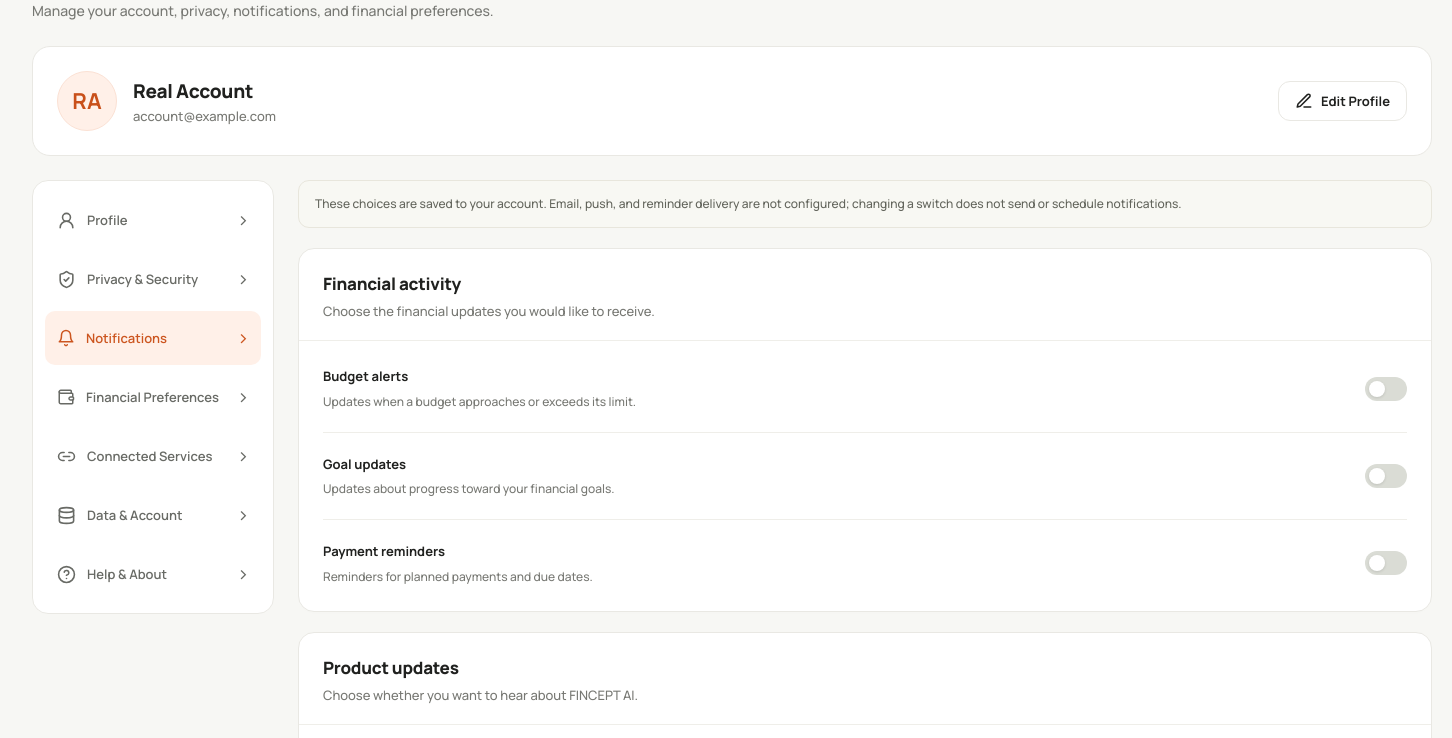
persists notification preferences only on successful save, retaining edits on failure
Click the switch named "Budget alerts" in the row of "Budget alerts" at [1386, 389], box [1365, 377, 1407, 401]
(page scrolled)
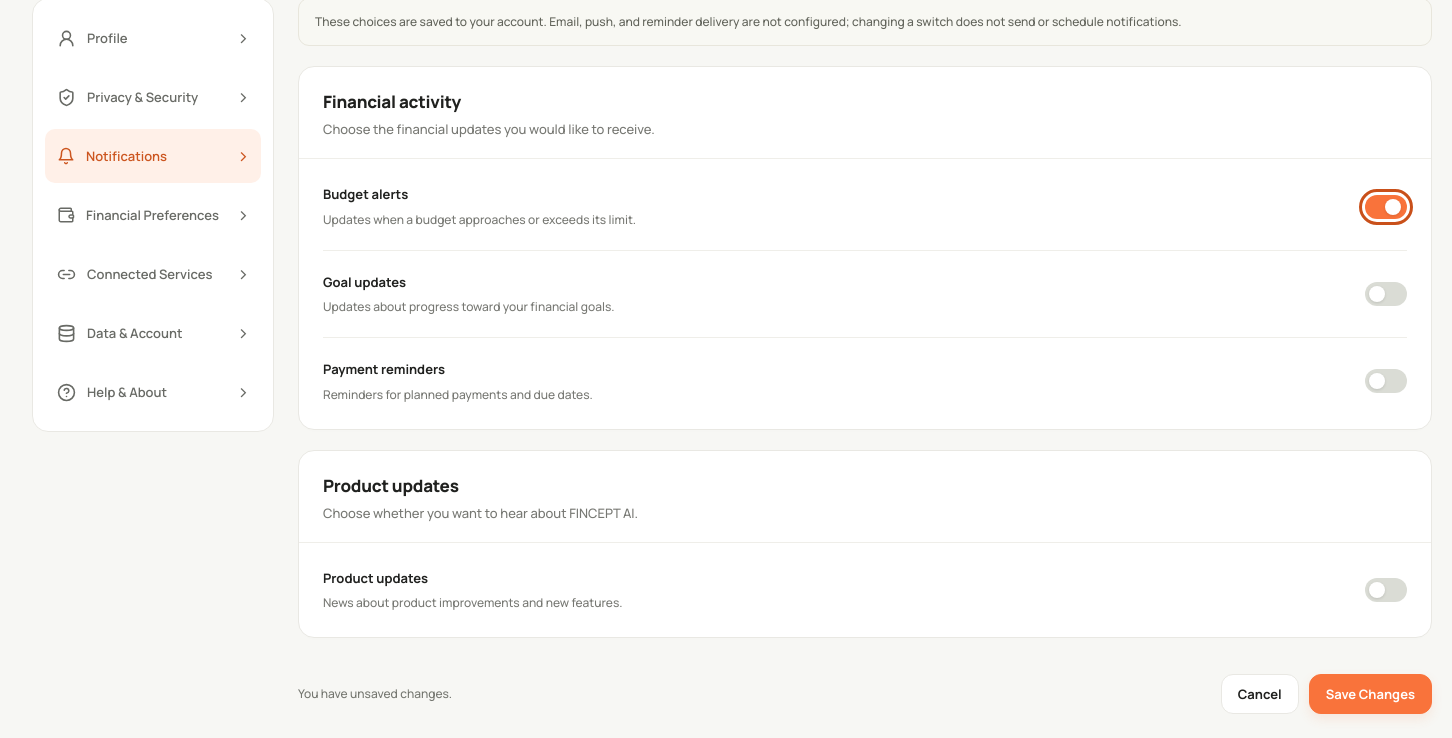
Expected: the switch named "Budget alerts" in the row of "Budget alerts" is checked, [1365, 195, 1407, 219]
Click the button "Save Changes" at [1370, 694], box [1309, 674, 1432, 714]
(page scrolled)
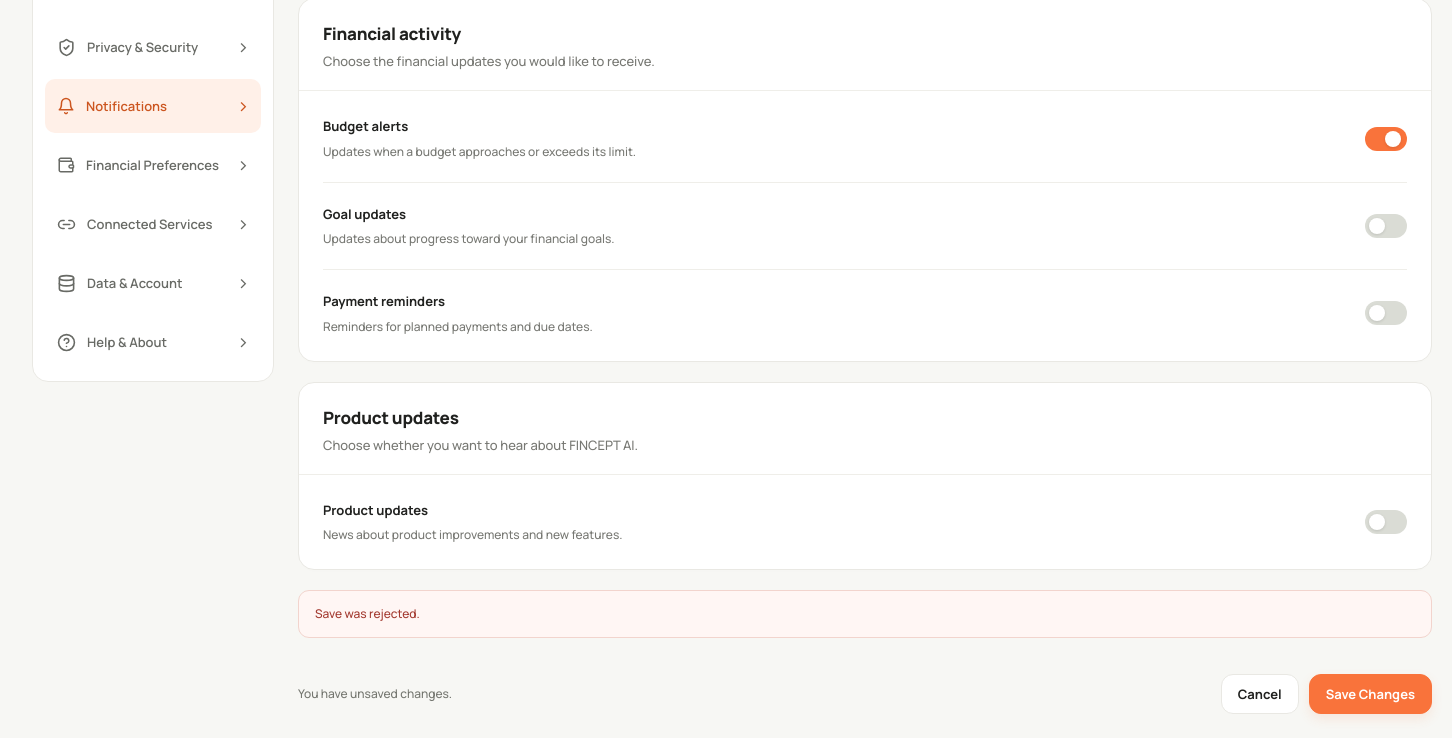
Expected: the text "Notification preferences saved. Delivery is not configured." is not shown
Expected: the message "Save was rejected." is shown, [298, 590, 1432, 638]
Click the button "Save Changes" at [1370, 694], box [1309, 674, 1432, 714]
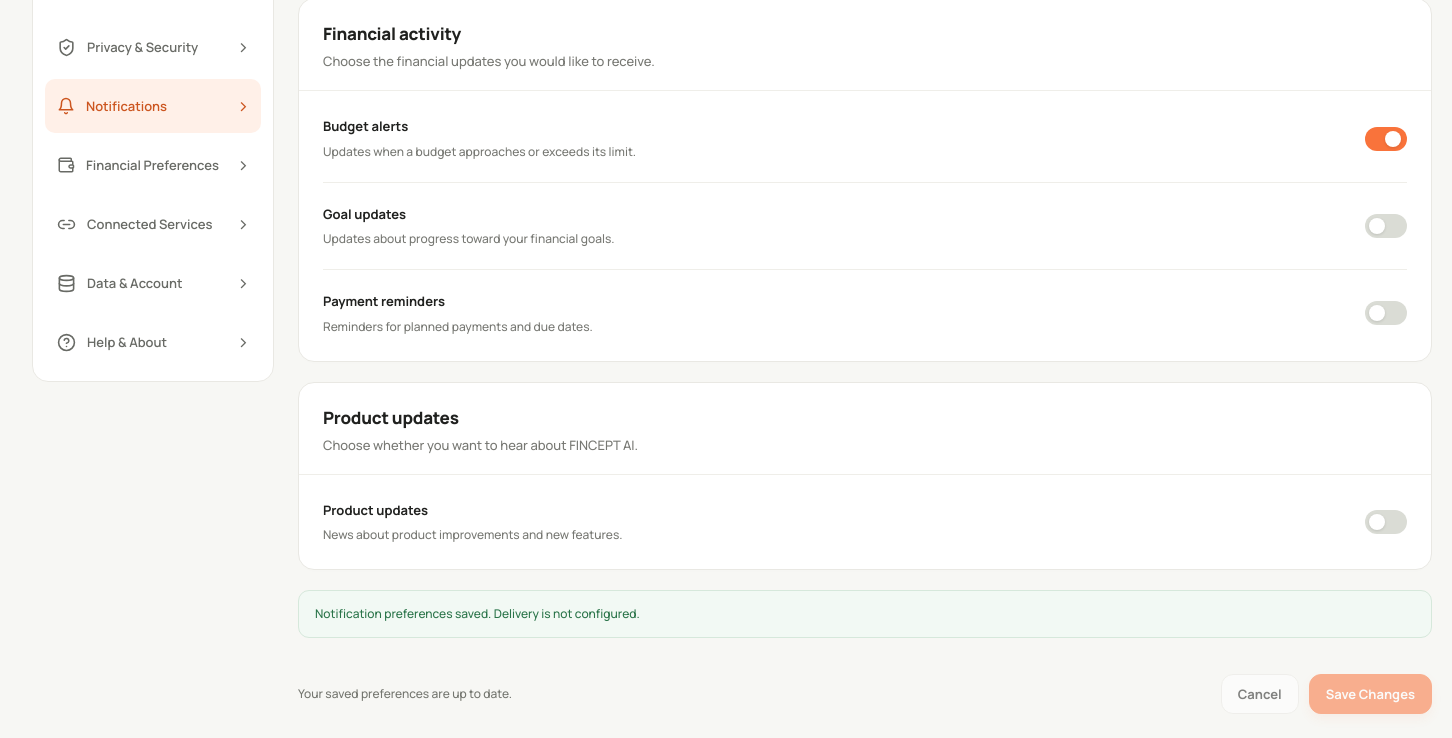
Expected: the text "Notification preferences saved. Delivery is not configured." is shown, [315, 604, 640, 624]
